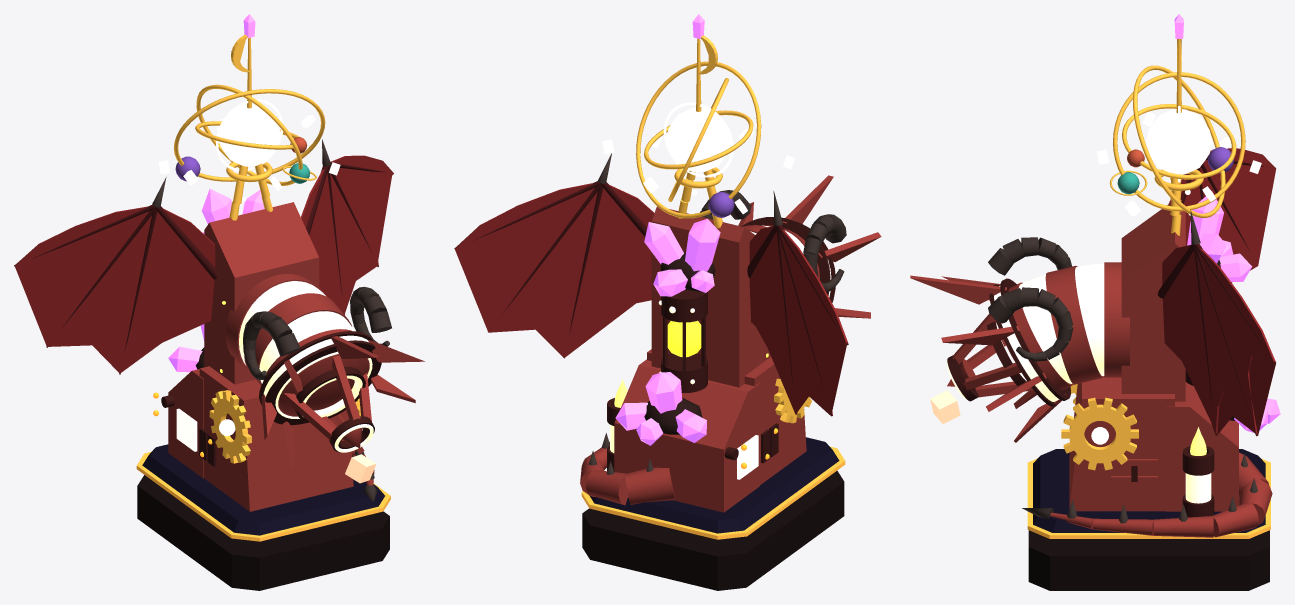
The model's file is CosmicDrakeMine_Roblox.fbx.
3 views of the same model, side by side, from view 1: azimuth 30°, elevation 25°; view 2: azimuth 150°, elevation 25°; view 3: azimuth 270°, elevation 25° (orthographic). The views are drawn at different scales.
Visible parts, largest first — view 1: Stone, WingMembrane, Black, Gold, StarMarble, Neon, CharredIron, Horn, WingBone, StarCore, GoldTrim, Crystal (+3 smaller); view 2: WingMembrane, Stone, Black, Crystal, Gold, StarMarble, CharredIron, WingBone, StarCore, Horn, GoldTrim, Rock (+3 smaller); view 3: Stone, WingMembrane, Black, Gold, Neon, Horn, StarMarble, CharredIron, StarCore, Crystal, WingBone, GoldTrim (+2 smaller).
Part boxes in pixels (x1,y1,x2,y2): Stone: (168, 202, 424, 511); WingMembrane: (15, 155, 393, 373); Black: (137, 475, 389, 590); Gold: (173, 35, 360, 463); StarMarble: (142, 444, 384, 535); Neon: (239, 281, 373, 452); CharredIron: (161, 331, 381, 466); Horn: (152, 139, 391, 501); WingBone: (14, 162, 385, 374); StarCore: (219, 104, 280, 436); GoldTrim: (136, 451, 390, 541); Crystal: (168, 14, 264, 372); WingMembrane: (455, 183, 848, 415); Stone: (580, 175, 881, 512); Black: (582, 470, 844, 590); Crystal: (615, 14, 720, 445); Gold: (636, 35, 811, 423); StarMarble: (589, 437, 839, 533); CharredIron: (607, 217, 835, 471); WingBone: (454, 181, 848, 416); StarCore: (666, 107, 730, 172); Horn: (588, 153, 846, 474); GoldTrim: (581, 446, 845, 539); Rock: (644, 252, 715, 434); Stone: (910, 202, 1272, 537); WingMembrane: (1162, 148, 1276, 435); Black: (1028, 530, 1269, 590); Gold: (1061, 39, 1245, 470); Neon: (946, 263, 1211, 503); Horn: (988, 209, 1257, 523); StarMarble: (1033, 449, 1265, 532); CharredIron: (947, 278, 1231, 517); StarCore: (1091, 109, 1212, 444); Crystal: (1174, 14, 1280, 432); WingBone: (1157, 156, 1275, 435); GoldTrim: (1027, 458, 1270, 538).
Bounding box in the file's own units: 2161 × 2820 × 1734.
